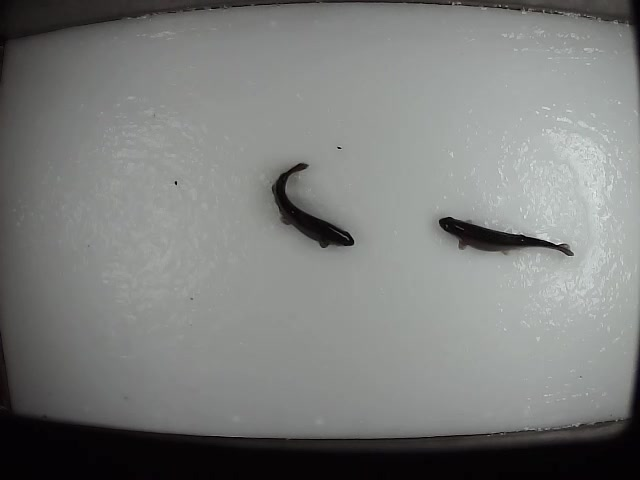fish: (267, 161, 359, 251), (436, 213, 576, 260)
